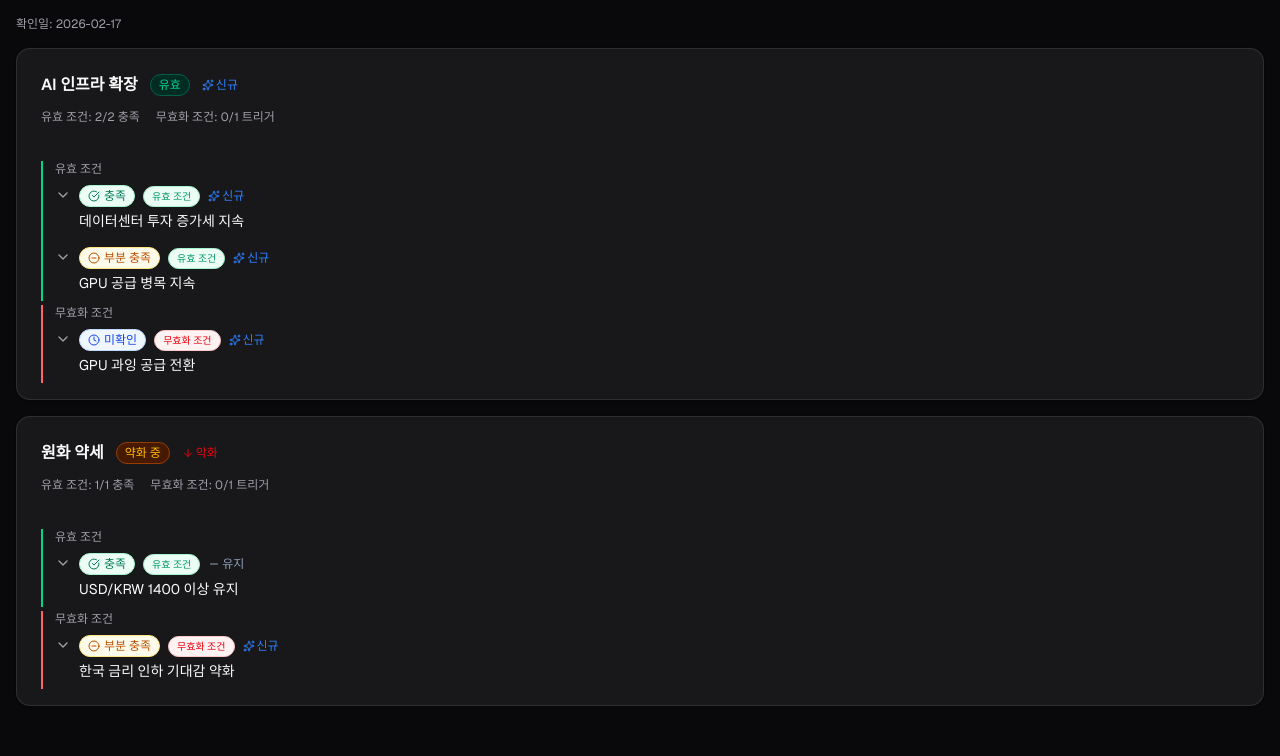
ThesisCheckViewer › 조건 클릭 시 근거와 출처를 펼친다
Click the text "데이터센터 투자 증가세 지속" at (162, 221), box [79,212,244,230]
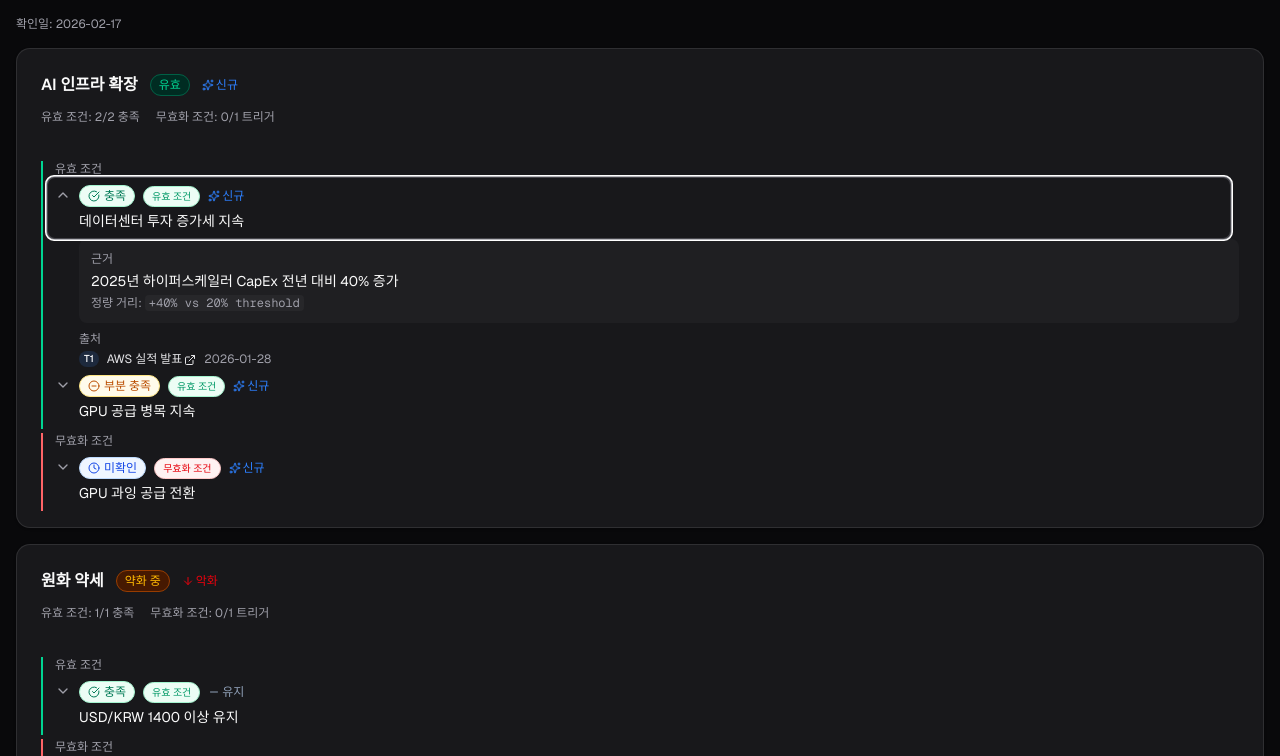
Expected: the text "2025년 하이퍼스케일러 CapEx 전년 대비 40% 증가" is shown, [91,272,398,290]
Expected: the link "AWS 실적 발표" is shown, [107,351,196,367]
